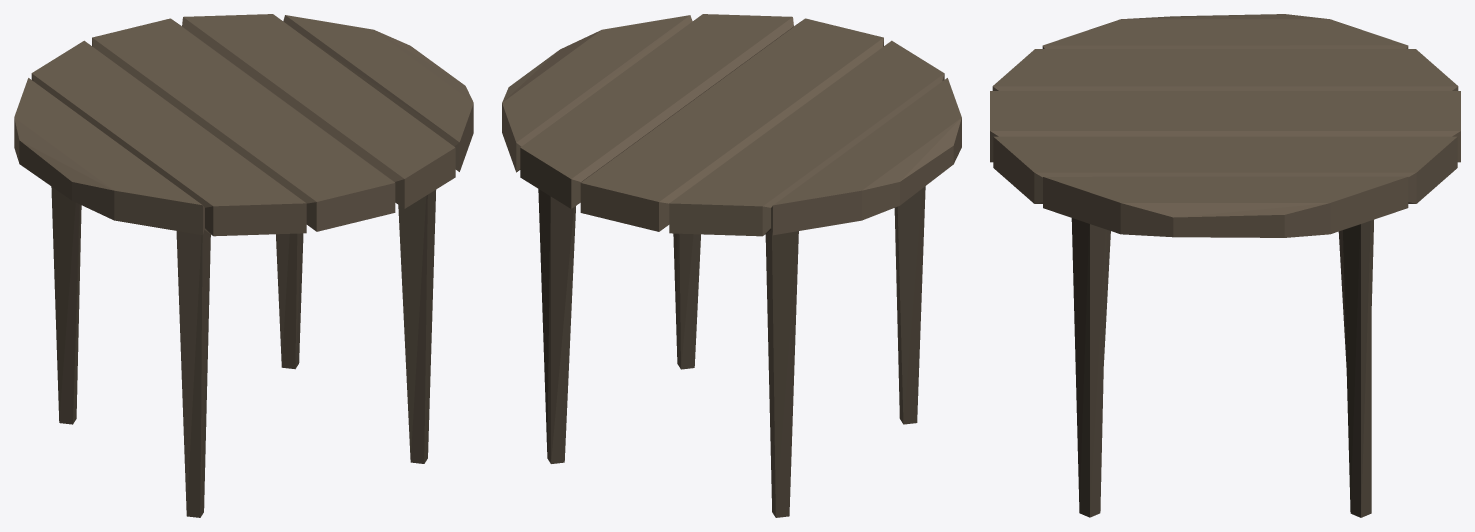
Rendered from SM_Prop_Table_01.glb.
3 views of the same model, side by side, from view 1: azimuth 30°, elevation 25°; view 2: azimuth 150°, elevation 25°; view 3: azimuth 270°, elevation 25° (orthographic). The views are drawn at different scales.
Visible parts, largest first — view 1: SM_Prop_Table_01_part00; view 2: SM_Prop_Table_01_part00; view 3: SM_Prop_Table_01_part00.
Boxes of the visible parts, x1,y1,x2,y2 form: SM_Prop_Table_01_part00: (14,14,473,517); SM_Prop_Table_01_part00: (502,14,961,517); SM_Prop_Table_01_part00: (990,14,1460,517).
Size of the model in its own units: 1.18 by 0.9478 by 1.17.
1 material, 1 textured.
